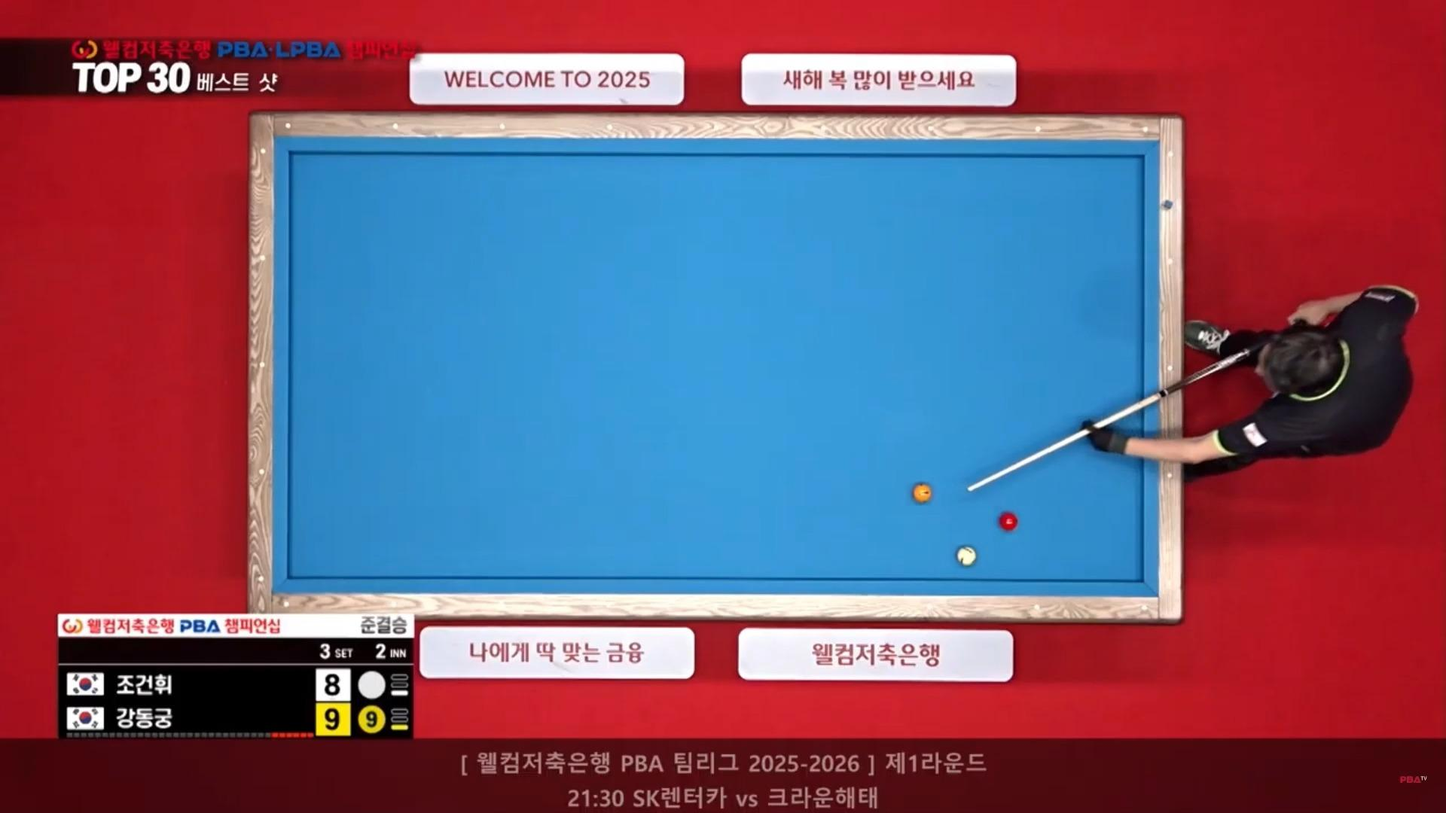Red: (1001, 515, 1024, 533)
White: (955, 546, 979, 566)
billiard-ball-Yellow: (910, 481, 932, 505)
